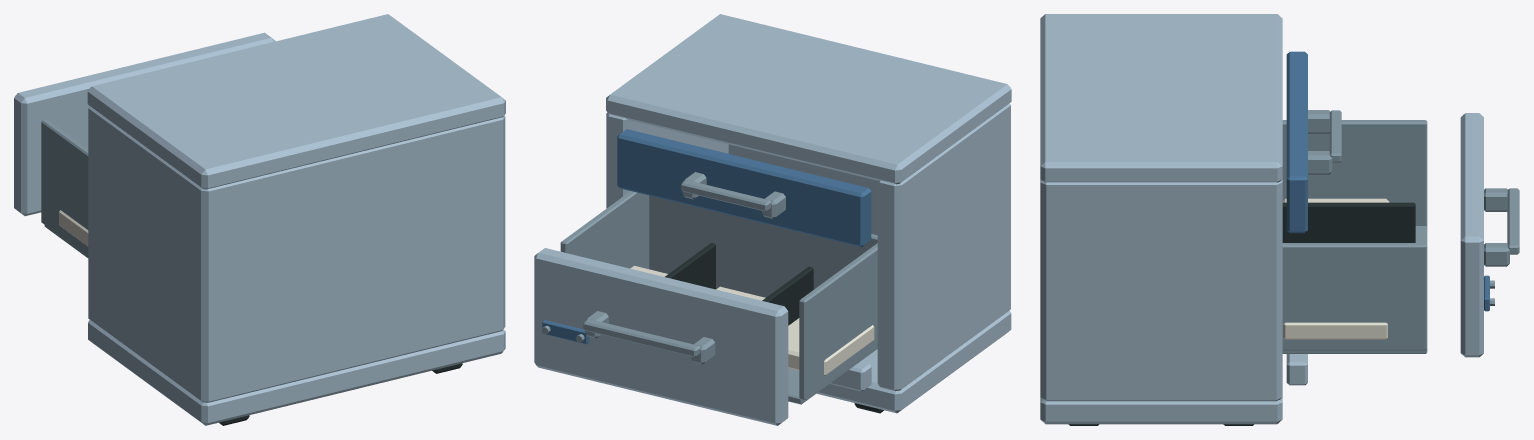
Rendered from port_manifest_drawer_opened.glb.
3 renders of one model, left to right at view 1: azimuth 30°, elevation 25°; view 2: azimuth 150°, elevation 25°; view 3: azimuth 270°, elevation 25°, orthographic. The views are drawn at different scales.
Visible parts, largest first — view 1: body_back_wall, body_roof, body_side_wall (×2), body_floor, moving_drawer_face, moving_tray_side, moving_document_bundle; view 2: body_roof, body_side_wall (×2), moving_drawer_face, fixed_upper_fascia, moving_tray_side (×2), moving_tray_back, body_floor, moving_tray_divider (×2), body_back_wall, moving_pull_grip, moving_document_bundle, fixed_upper_pull_grip (+3 smaller); view 3: body_side_wall, body_roof, moving_tray_side (×2), moving_drawer_face, body_floor, moving_tray_divider, fixed_upper_fascia, body_back_wall, moving_document_bundle, moving_pull_mount (×2), fixed_upper_pull_mount (×2), moving_pull_grip (+3 smaller).
Part boxes in pixels (x1=…): body_back_wall: x1=192, y1=117, x2=503, y2=402; body_roof: x1=87, y1=14, x2=505, y2=189; body_side_wall (×2): x1=88, y1=106, x2=505, y2=402; body_floor: x1=88, y1=320, x2=505, y2=425; moving_drawer_face: x1=14, y1=32, x2=275, y2=216; moving_tray_side: x1=41, y1=119, x2=88, y2=256; moving_document_bundle: x1=59, y1=210, x2=88, y2=246; body_roof: x1=606, y1=14, x2=1011, y2=184; body_side_wall (×2): x1=606, y1=103, x2=1010, y2=391; moving_drawer_face: x1=534, y1=248, x2=788, y2=425; fixed_upper_fascia: x1=617, y1=129, x2=871, y2=247; moving_tray_side (×2): x1=560, y1=191, x2=877, y2=400; moving_tray_back: x1=649, y1=195, x2=877, y2=297; body_floor: x1=816, y1=310, x2=1011, y2=413; moving_tray_divider (×2): x1=665, y1=243, x2=813, y2=325; body_back_wall: x1=728, y1=105, x2=1010, y2=311; moving_pull_grip: x1=583, y1=319, x2=700, y2=357; moving_document_bundle: x1=788, y1=318, x2=874, y2=375; fixed_upper_pull_grip: x1=681, y1=180, x2=771, y2=211; body_side_wall: x1=1040, y1=179, x2=1282, y2=401; body_roof: x1=1040, y1=14, x2=1282, y2=182; moving_tray_side (×2): x1=1282, y1=120, x2=1427, y2=350; moving_drawer_face: x1=1460, y1=113, x2=1483, y2=357; body_floor: x1=1040, y1=398, x2=1282, y2=424; moving_tray_divider: x1=1282, y1=202, x2=1415, y2=242; fixed_upper_fascia: x1=1286, y1=51, x2=1307, y2=233; body_back_wall: x1=1040, y1=180, x2=1063, y2=401; moving_document_bundle: x1=1283, y1=322, x2=1387, y2=339; moving_pull_mount (×2): x1=1484, y1=188, x2=1509, y2=266; fixed_upper_pull_mount (×2): x1=1308, y1=110, x2=1332, y2=174; moving_pull_grip: x1=1507, y1=188, x2=1519, y2=254.
Size of the model in its own units: 1.04 by 0.89 by 1.39.
